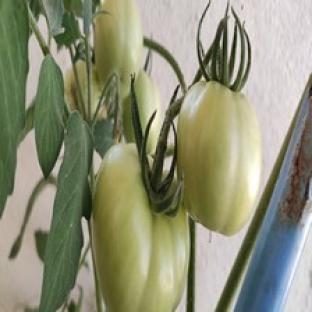Tomato: (91, 144, 189, 311), (177, 81, 261, 235), (134, 70, 161, 153), (65, 60, 87, 114)
